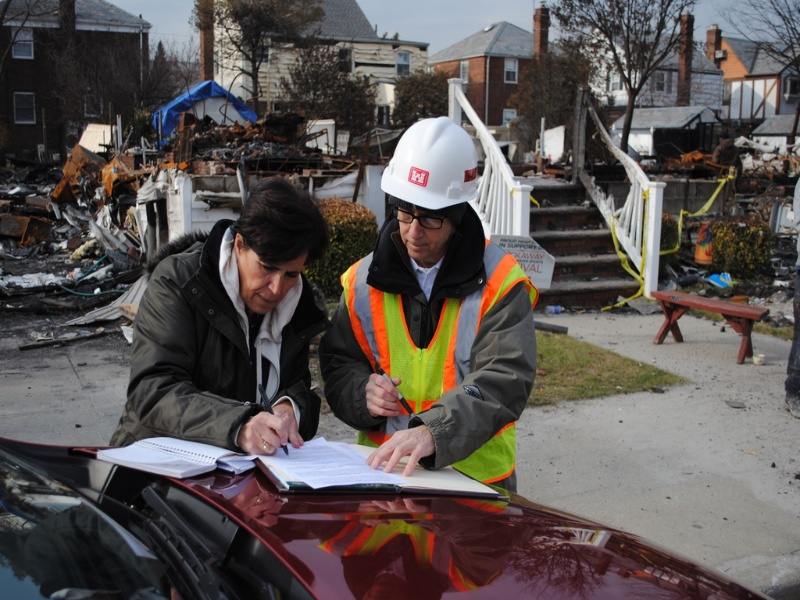helmet: (380, 117, 480, 209)
jacket: (341, 250, 524, 484)
